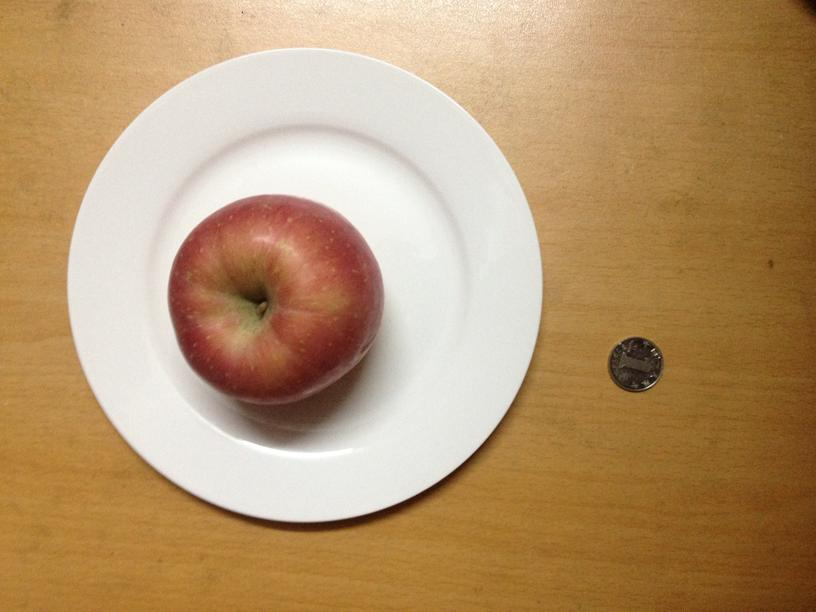apple: (169, 194, 383, 406)
coin: (608, 334, 663, 393)
